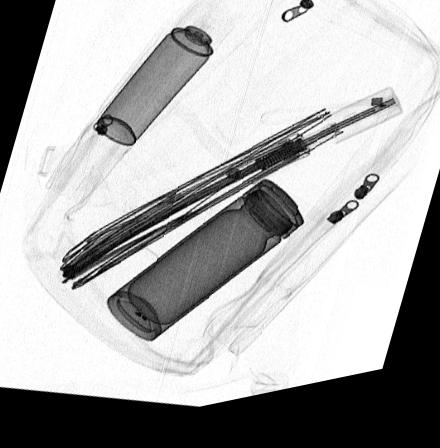Sprayer: (97, 8, 235, 150)
